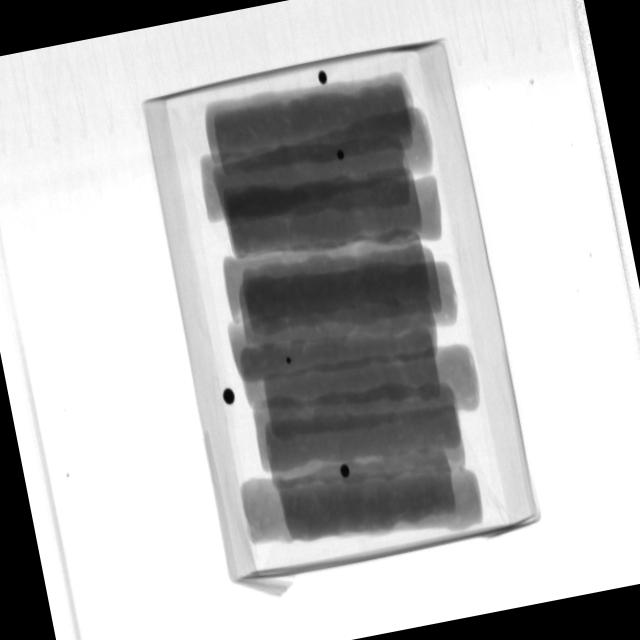ym: (223, 385, 238, 404), (317, 70, 330, 86), (340, 464, 352, 479), (336, 151, 346, 162), (287, 358, 294, 365)
